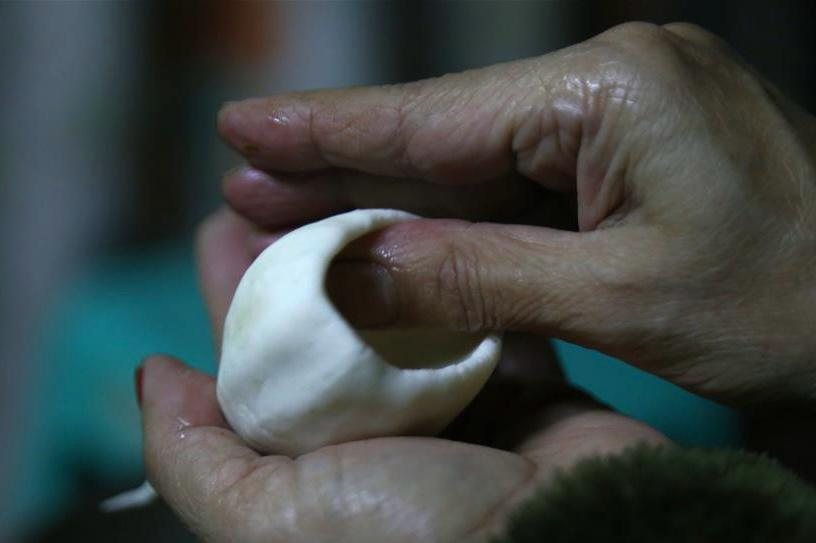yomari: (244, 201, 504, 419)
